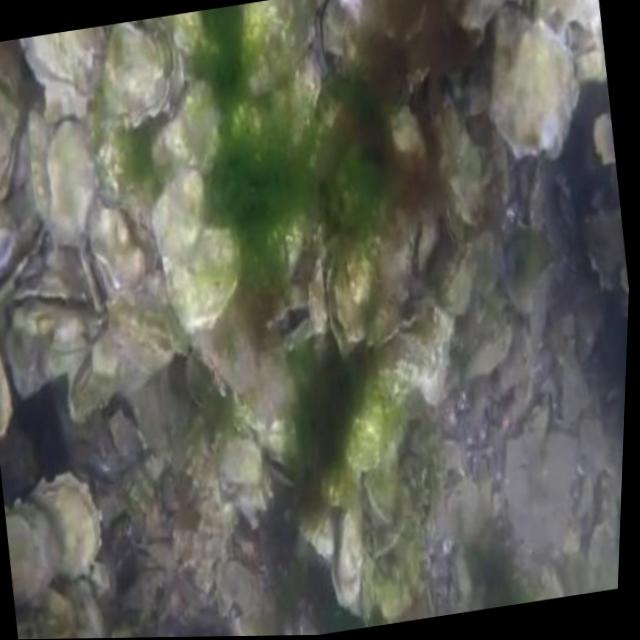Oyster-Closed: (490, 8, 578, 161), (104, 17, 177, 130), (533, 0, 608, 83), (333, 490, 364, 610), (0, 39, 21, 201), (320, 0, 352, 74), (390, 104, 427, 165), (440, 252, 474, 314), (308, 259, 329, 337), (443, 194, 472, 247), (0, 205, 19, 279), (415, 462, 433, 532), (314, 216, 329, 261)
Oyster-Indeterminate: (168, 231, 240, 332), (153, 81, 219, 179), (346, 367, 404, 472), (46, 119, 95, 239), (5, 508, 58, 609), (156, 165, 206, 269), (207, 305, 260, 394), (504, 237, 553, 313), (29, 115, 57, 218), (469, 316, 514, 373), (589, 211, 626, 280), (221, 441, 262, 487), (0, 356, 13, 439), (595, 111, 616, 162)
Oyster-Open: (28, 473, 103, 577), (90, 197, 157, 302), (22, 26, 109, 98), (326, 245, 368, 353), (11, 270, 95, 315), (81, 244, 115, 312), (409, 213, 438, 280), (269, 303, 311, 348), (264, 453, 301, 490)
